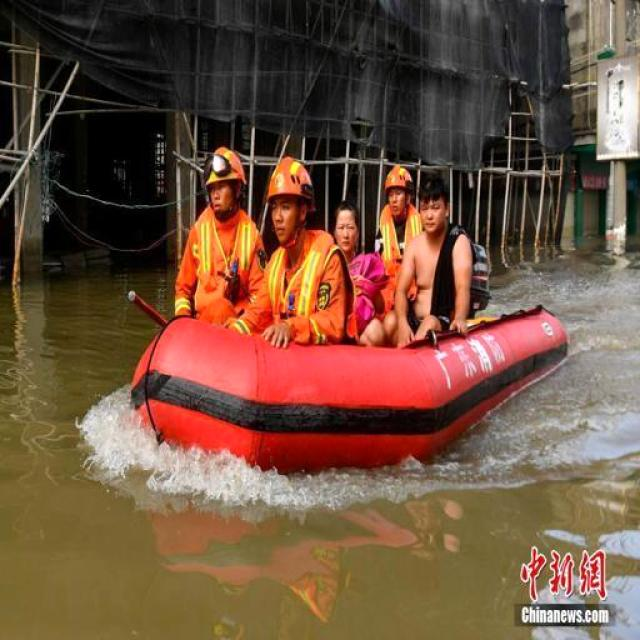civilian: (394, 176, 470, 351), (332, 198, 398, 348)
rescuer: (228, 147, 361, 344), (167, 141, 270, 336), (372, 157, 423, 319)
